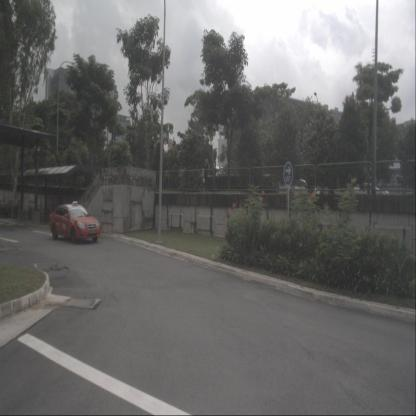human-pedestrian-adult: (199, 158, 209, 192)
vehicle-car: (50, 201, 101, 244), (353, 181, 390, 202), (286, 178, 320, 200)
